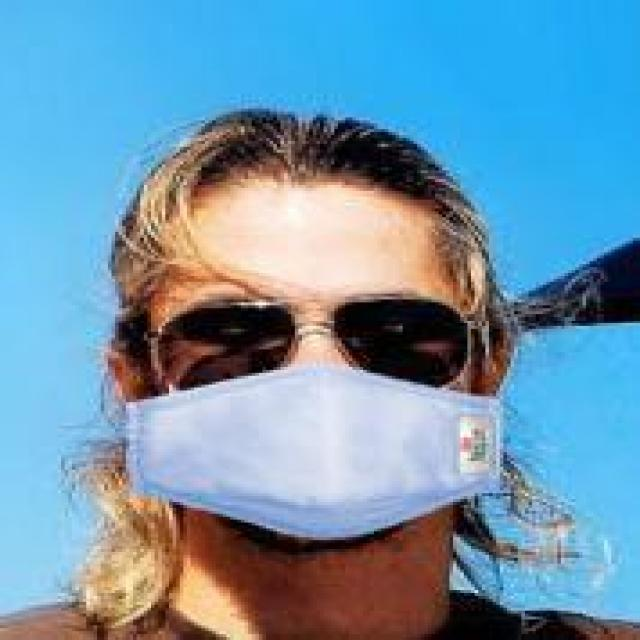mask: (122, 82, 568, 561)
